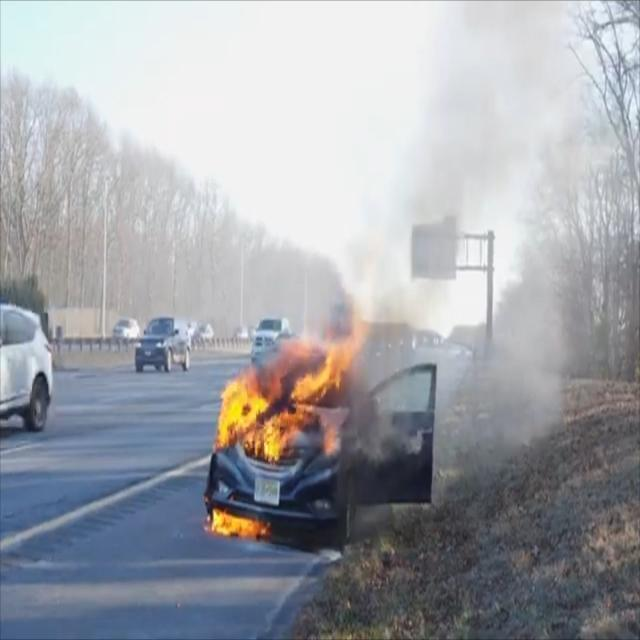fire: (208, 310, 353, 541)
